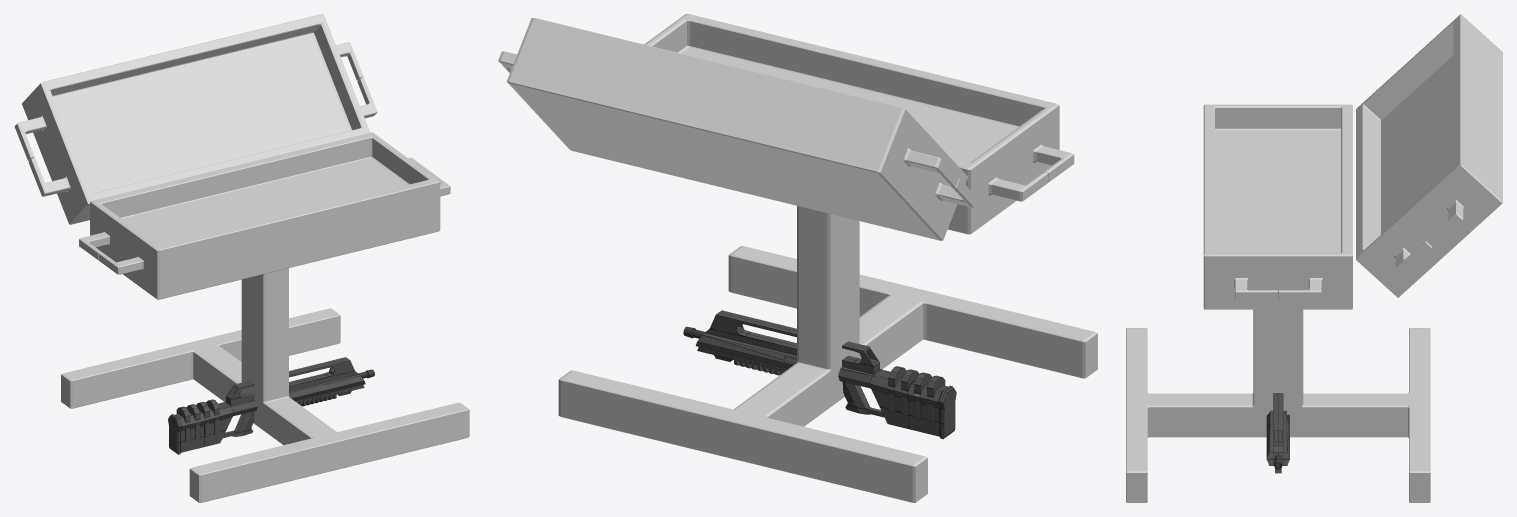
The model's file is boxWeapon.fbx.
The picture shows the model from 3 angles, left to right: view 1: azimuth 30°, elevation 25°; view 2: azimuth 150°, elevation 25°; view 3: azimuth 270°, elevation 25°; orthographic projection. The views are drawn at different scales.
Parts seen in each view (by area): view 1: Cube.002, Cube.003, weapon01; view 2: Cube.002, Cube.003, weapon01; view 3: Cube.002, Cube.003, weapon01.
Boxes of the visible parts, x1,y1,x2,y2 form: Cube.002: (61, 132, 469, 502); Cube.003: (14, 14, 377, 224); weapon01: (168, 357, 374, 454); Cube.002: (558, 14, 1097, 502); Cube.003: (498, 18, 977, 240); weapon01: (683, 310, 956, 438); Cube.002: (1126, 104, 1430, 502); Cube.003: (1356, 14, 1502, 297); weapon01: (1266, 393, 1289, 473).
Size of the model in its own units: 816 by 750 by 728.
